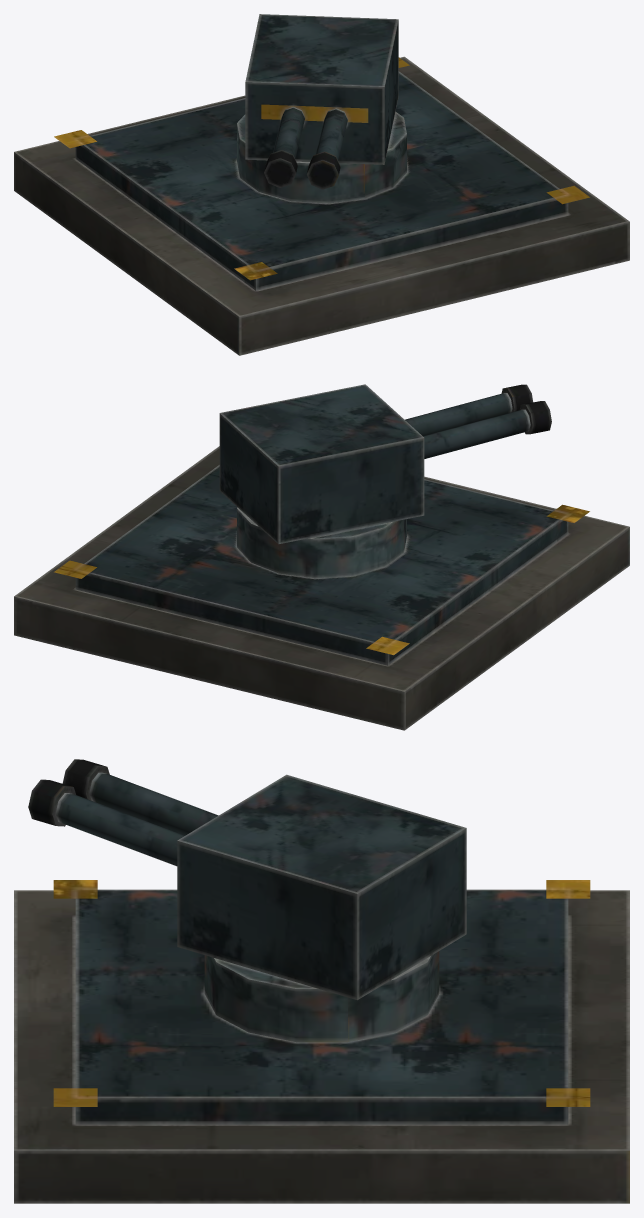
The model's file is autocannon.glb.
3 views of the same model, one above another, from view 1: azimuth 30°, elevation 25°; view 2: azimuth 150°, elevation 25°; view 3: azimuth 270°, elevation 25° (orthographic). The views are drawn at different scales.
Parts seen in each view (by area): view 1: te_autocannon; view 2: te_autocannon; view 3: te_autocannon.
Part boxes in pixels (x1,y1,x2,y2): te_autocannon: (14, 14, 629, 355); te_autocannon: (14, 384, 629, 730); te_autocannon: (14, 759, 629, 1203).
Bounding box in the file's own units: 0.84 × 0.36 × 0.84.
1 material, 1 textured.
